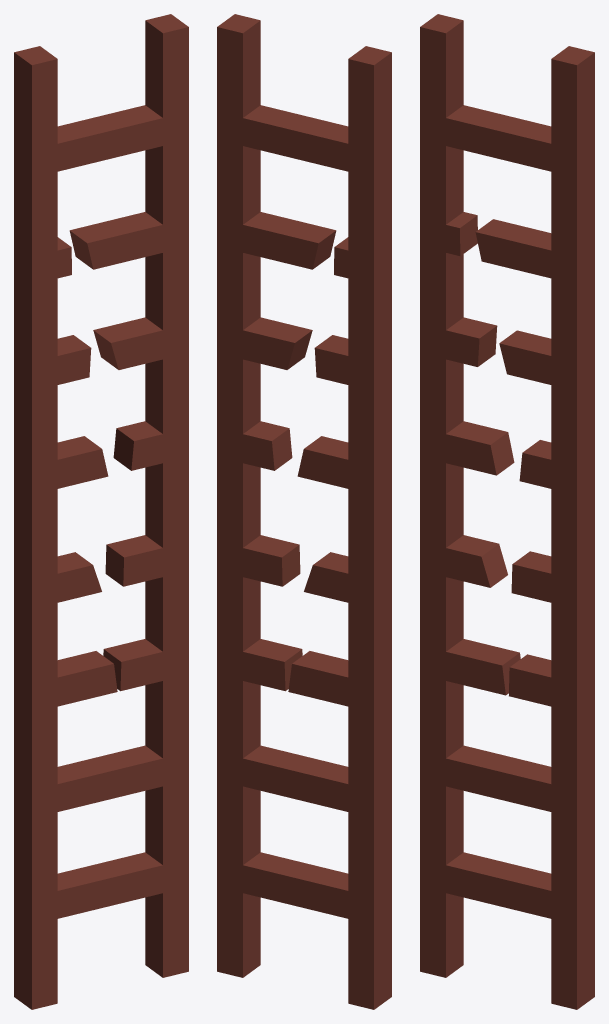
File: BrokenLadder.fbx
The picture shows the model from 3 angles, left to right: view 1: azimuth 30°, elevation 25°; view 2: azimuth 150°, elevation 25°; view 3: azimuth 330°, elevation 25°; orthographic projection.
Visible parts, largest first — view 1: BrokenLadder; view 2: BrokenLadder; view 3: BrokenLadder.
Part boxes in pixels (box(x1,y1,x2,y2)): BrokenLadder: box(14, 14, 188, 1009); BrokenLadder: box(217, 14, 391, 1009); BrokenLadder: box(420, 14, 594, 1009).
Bounding box in the file's own units: 214 × 1231 × 41.91.
